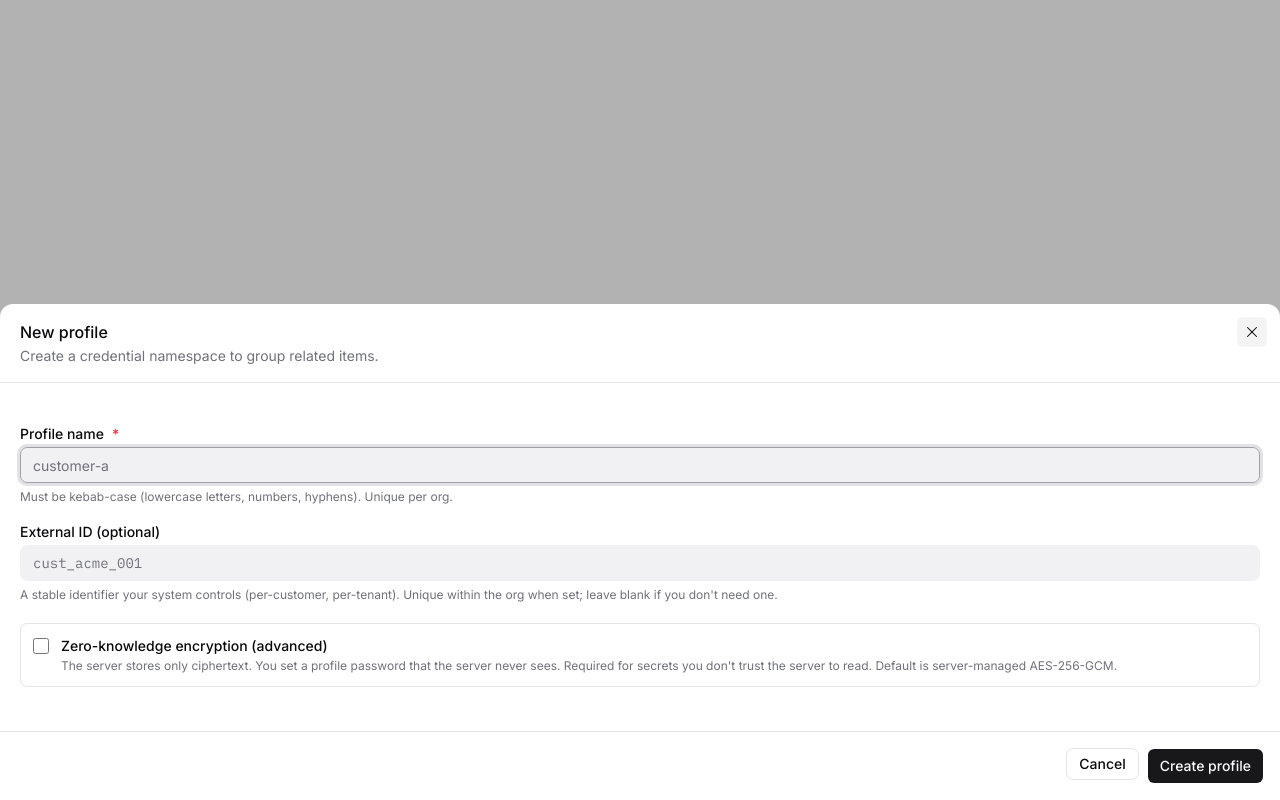
ProfileCreateDrawer — rendering › toggling ZK off again hides the password inputs and warning block
Click the checkbox. click: {"x": 41, "y": 646}
box: [33, 638, 49, 654]
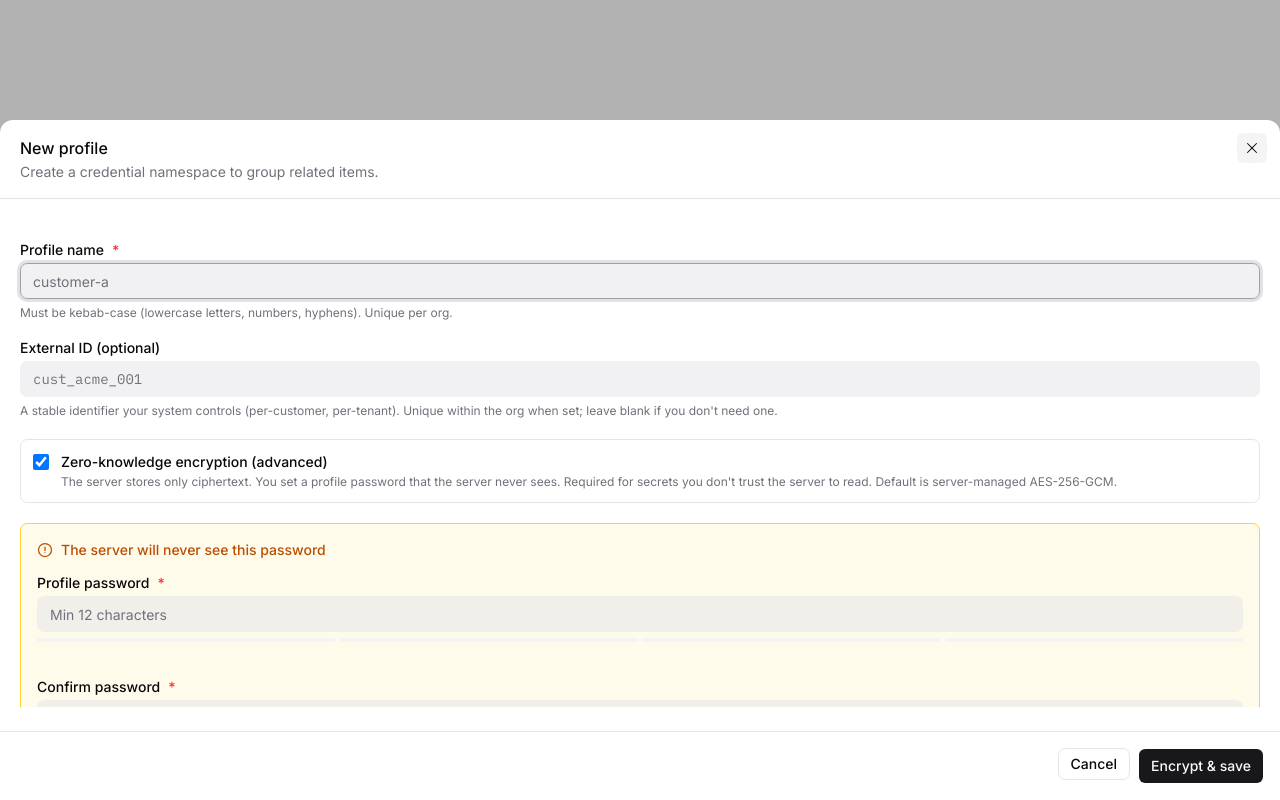
Click the checkbox. click: {"x": 41, "y": 462}
box: [33, 454, 49, 470]
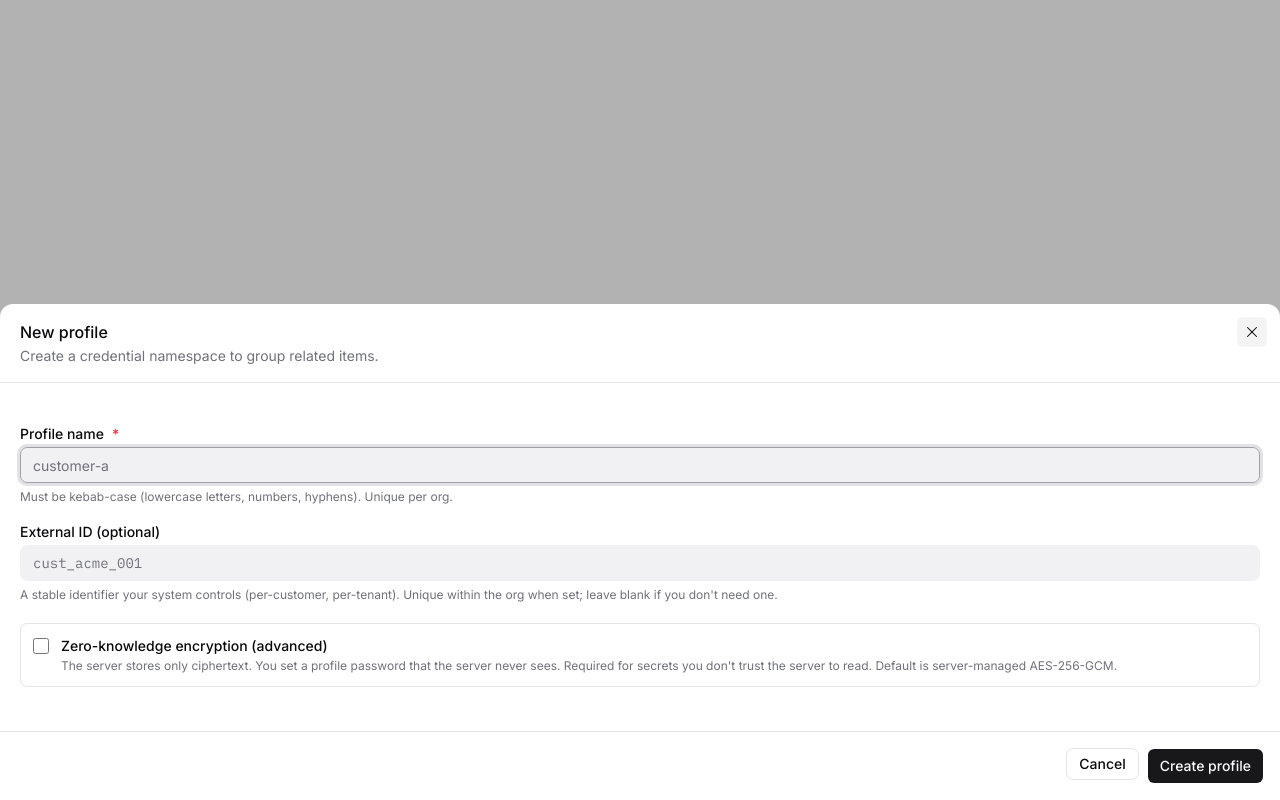
Result: the checkbox is not checked at [33, 638, 49, 654]
Result: the text "The server will never see this password" is gone
